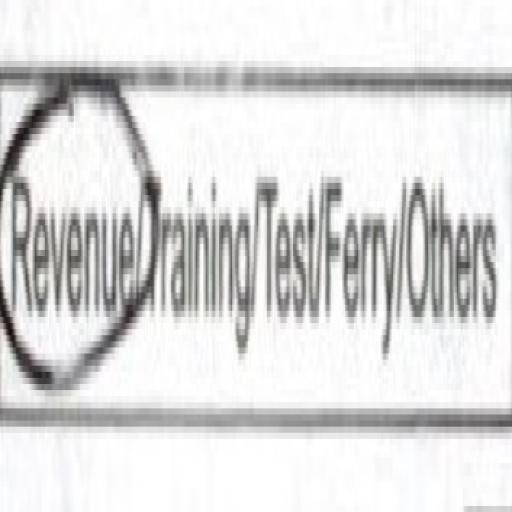check: (2, 0, 141, 471)
